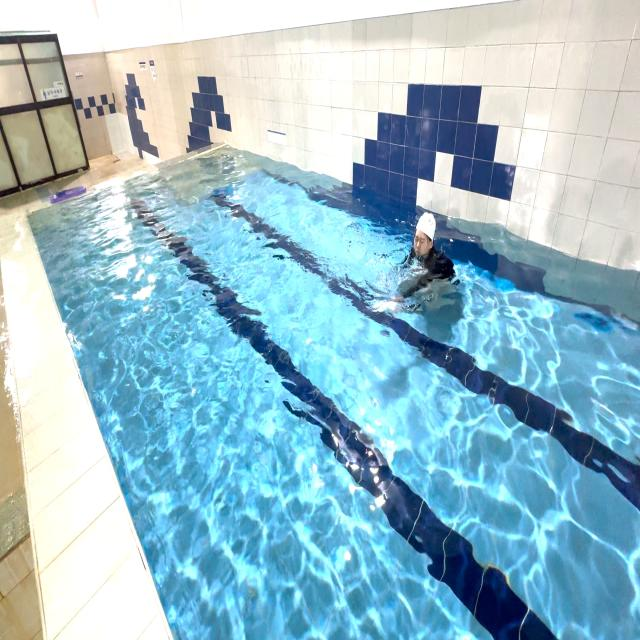Drowning: (374, 211, 458, 314)
